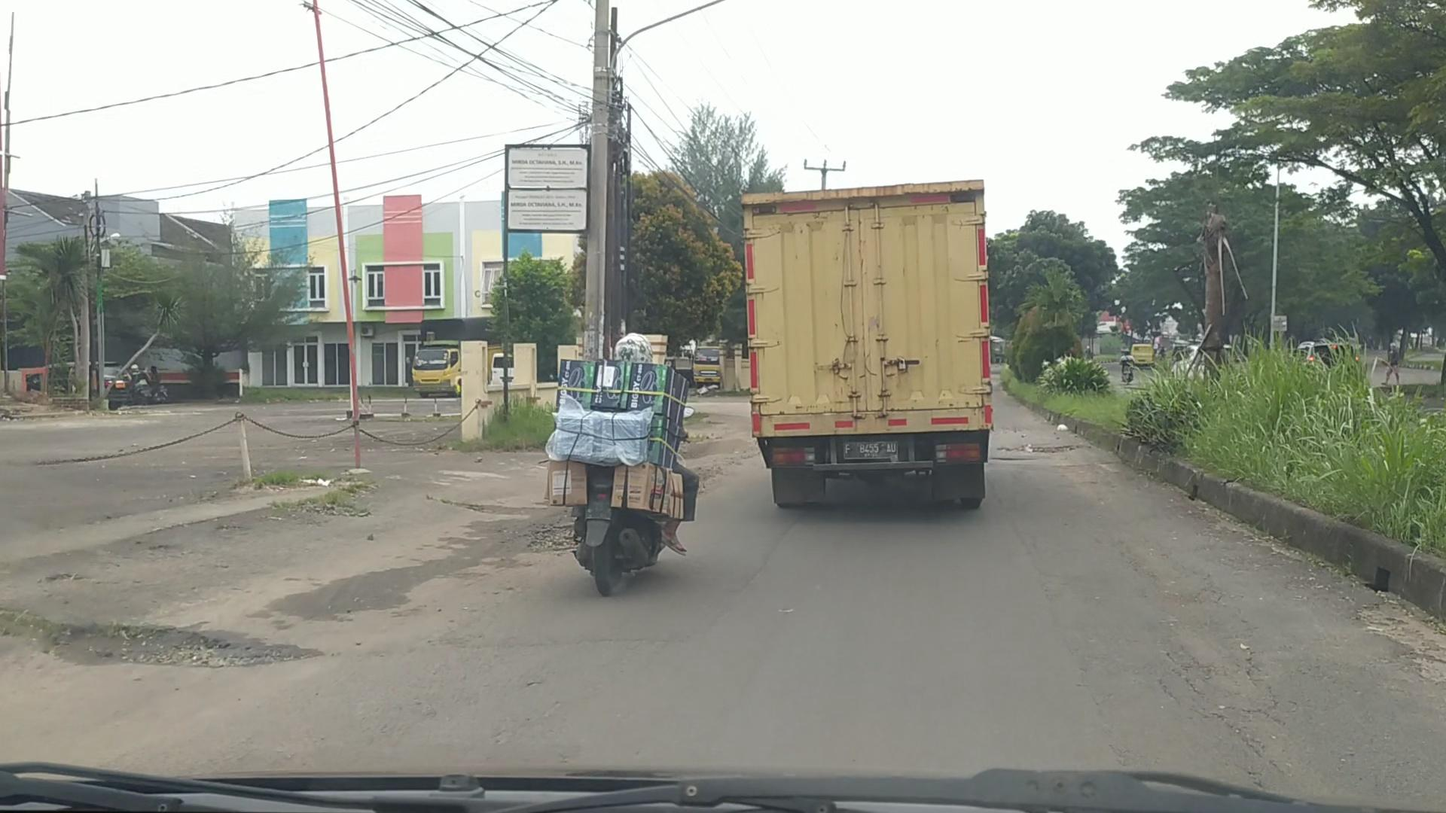pothole: (0, 606, 326, 671), (523, 520, 578, 553), (996, 443, 1087, 454), (992, 456, 1038, 461)
